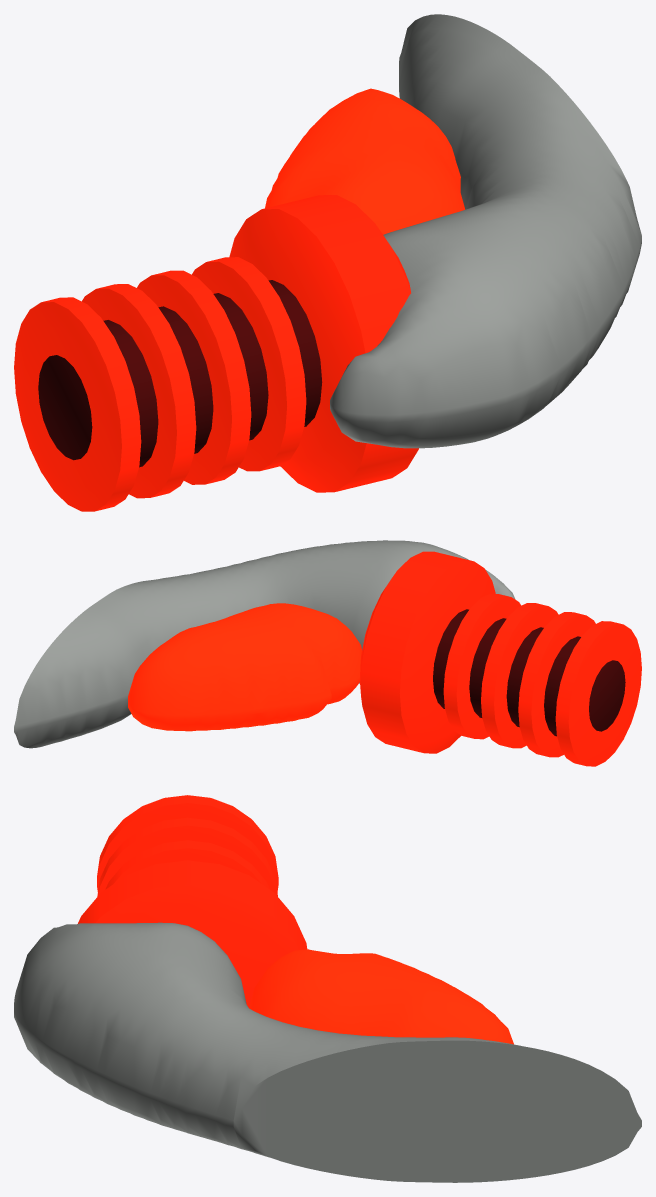
File: pincer_r_coil.glb
The picture shows the model from 3 angles, top to bottom: view 1: azimuth 30°, elevation 25°; view 2: azimuth 150°, elevation 25°; view 3: azimuth 270°, elevation 25°; orthographic projection. The views are drawn at different scales.
Visible parts, largest first — view 1: hull_right, coil_collar_right, light1, rib4_right, coil_core_right, rib1_right, rib3_right, rib2_right; view 2: hull_right, light1, coil_collar_right, rib4_right, coil_core_right, rib1_right, rib3_right, rib2_right; view 3: hull_right, light1, coil_collar_right, rib4_right, rib3_right, rib2_right.
Boxes of the visible parts, box(x1,y1,x2,y2) form: hull_right: box(330, 14, 641, 448); coil_collar_right: box(229, 195, 418, 492); light1: box(265, 88, 465, 234); rib4_right: box(14, 297, 141, 511); coil_core_right: box(38, 280, 322, 467); rib1_right: box(192, 257, 306, 471); rib3_right: box(82, 284, 196, 498); rib2_right: box(137, 270, 251, 484); hull_right: box(14, 540, 515, 748); light1: box(128, 603, 361, 731); coil_collar_right: box(360, 551, 495, 753); rib4_right: box(555, 621, 641, 766); coil_core_right: box(433, 609, 625, 736); rib1_right: box(443, 593, 520, 739); rib3_right: box(518, 612, 595, 757); rib2_right: box(481, 603, 558, 748); hull_right: box(14, 922, 641, 1182); light1: box(249, 949, 513, 1044); coil_collar_right: box(78, 860, 307, 1007); rib4_right: box(97, 795, 278, 892); rib3_right: box(97, 817, 277, 896); rib2_right: box(105, 840, 269, 889).
Size of the model in its own units: 22.01 by 9.2 by 23.5.
